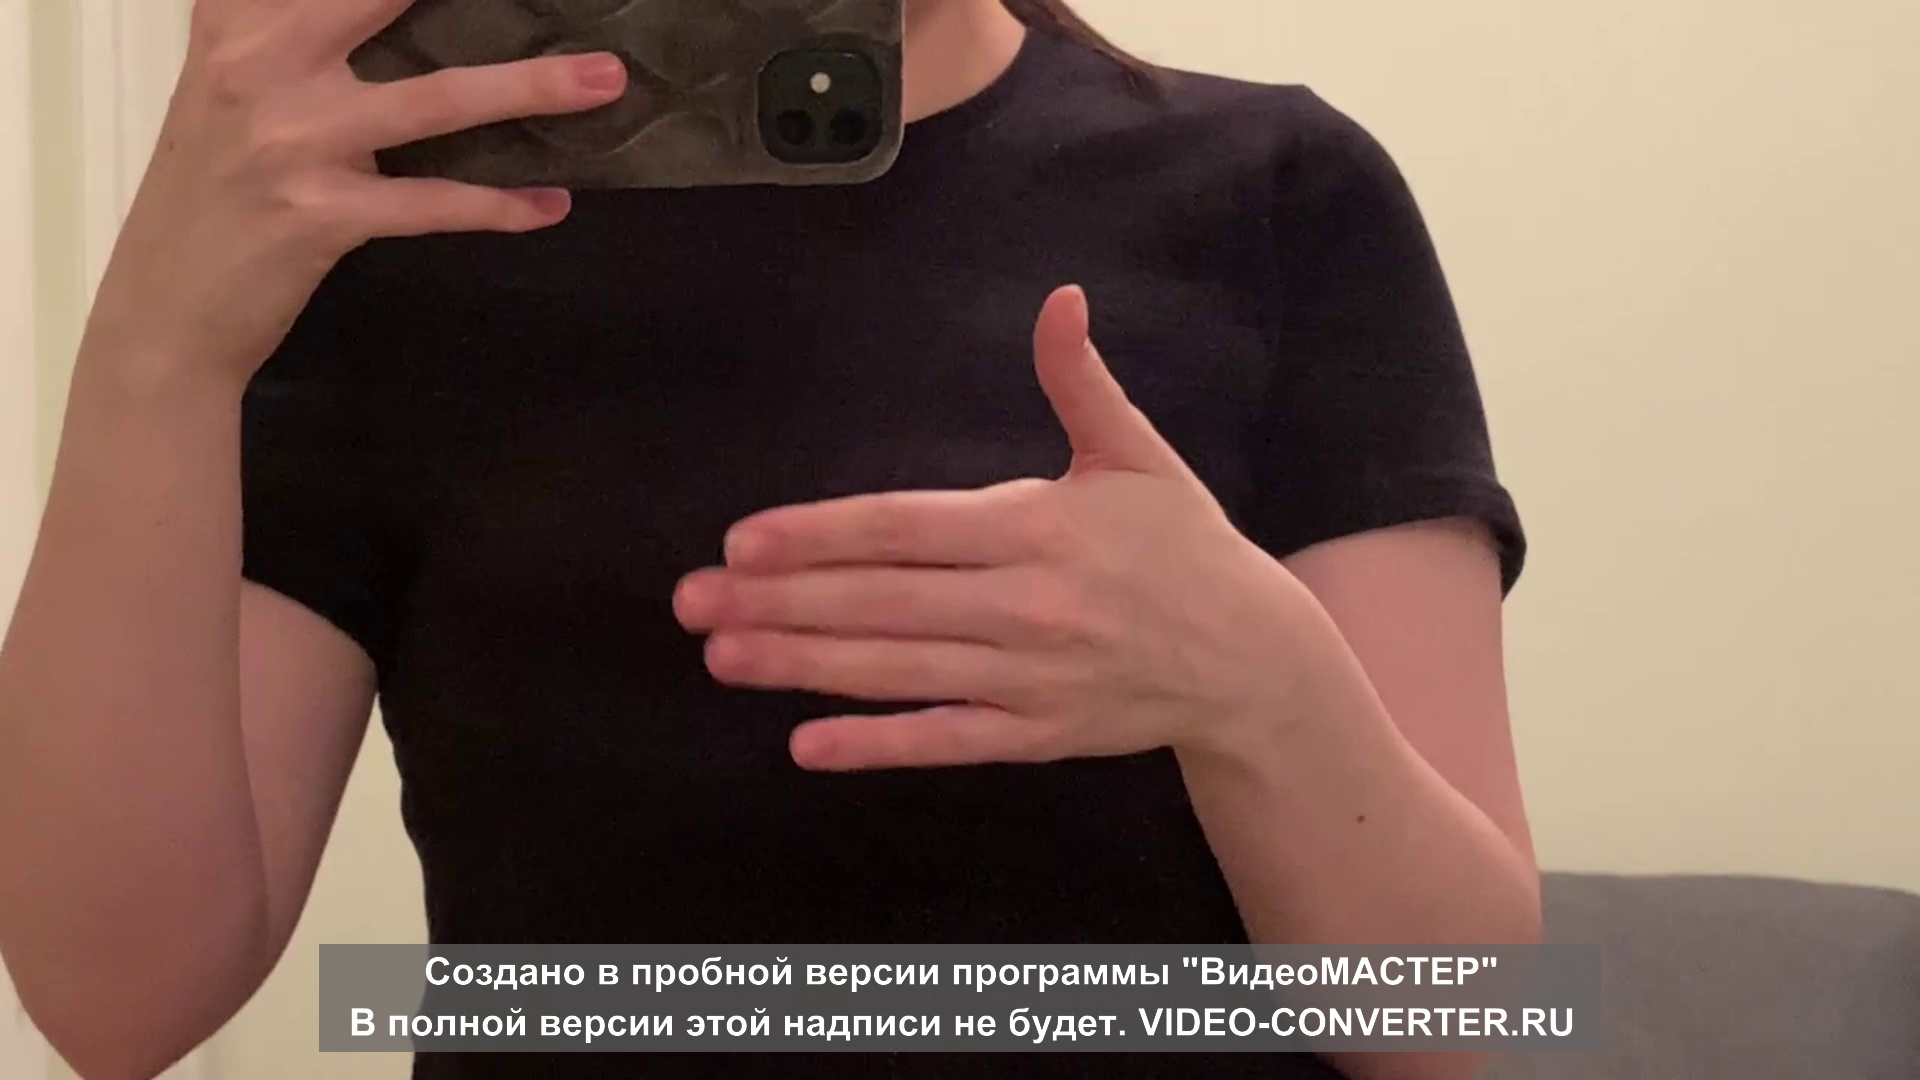Кисть: (669, 284, 1242, 769)
